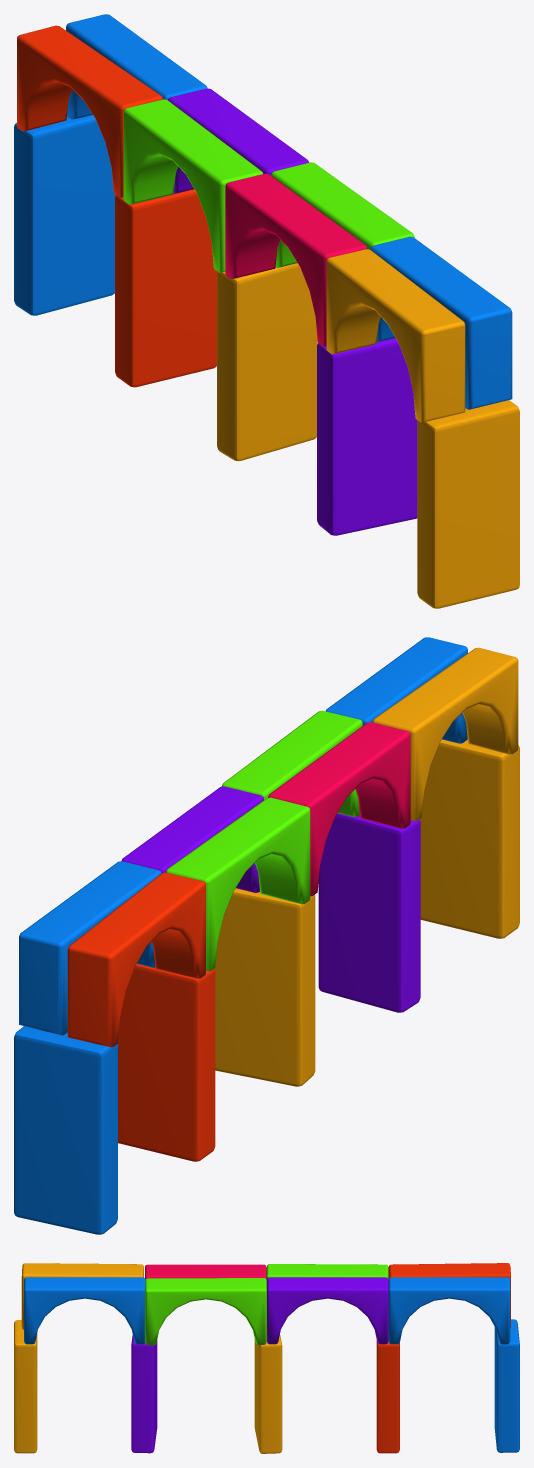
Rendered from viaduct.fbx.
The picture shows the model from 3 angles, top to bottom: view 1: azimuth 30°, elevation 25°; view 2: azimuth 150°, elevation 25°; view 3: azimuth 270°, elevation 25°; orthographic projection. The views are drawn at different scales.
Parts seen in each view (by area): view 1: polySurface9; view 2: polySurface9; view 3: polySurface9.
Boxes of the visible parts, box(x1,y1,x2,y2) form: polySurface9: box(14, 14, 519, 608); polySurface9: box(14, 637, 519, 1234); polySurface9: box(14, 1263, 519, 1453).
Bounding box in the file's own units: 2.2 × 6 × 16.63.
Materials: 1 (1 with a texture image).
